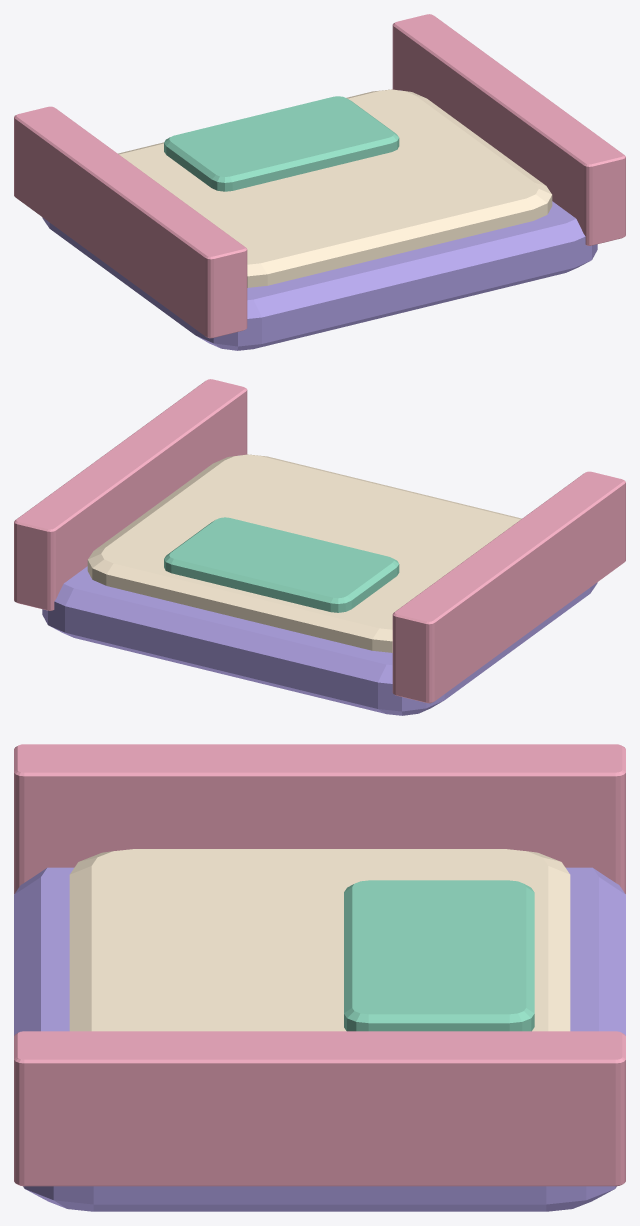
The model's file is dog_bed.glb.
The picture shows the model from 3 angles, top to bottom: view 1: azimuth 30°, elevation 25°; view 2: azimuth 150°, elevation 25°; view 3: azimuth 270°, elevation 25°; orthographic projection. The views are drawn at different scales.
Visible parts, largest first — view 1: model; view 2: model; view 3: model.
Part boxes in pixels (box(x1,y1,x2,y2)): model: box(14, 14, 625, 350); model: box(14, 379, 625, 715); model: box(14, 744, 625, 1211).
Bounding box in the file's own units: 0.8 × 0.2 × 0.65.
